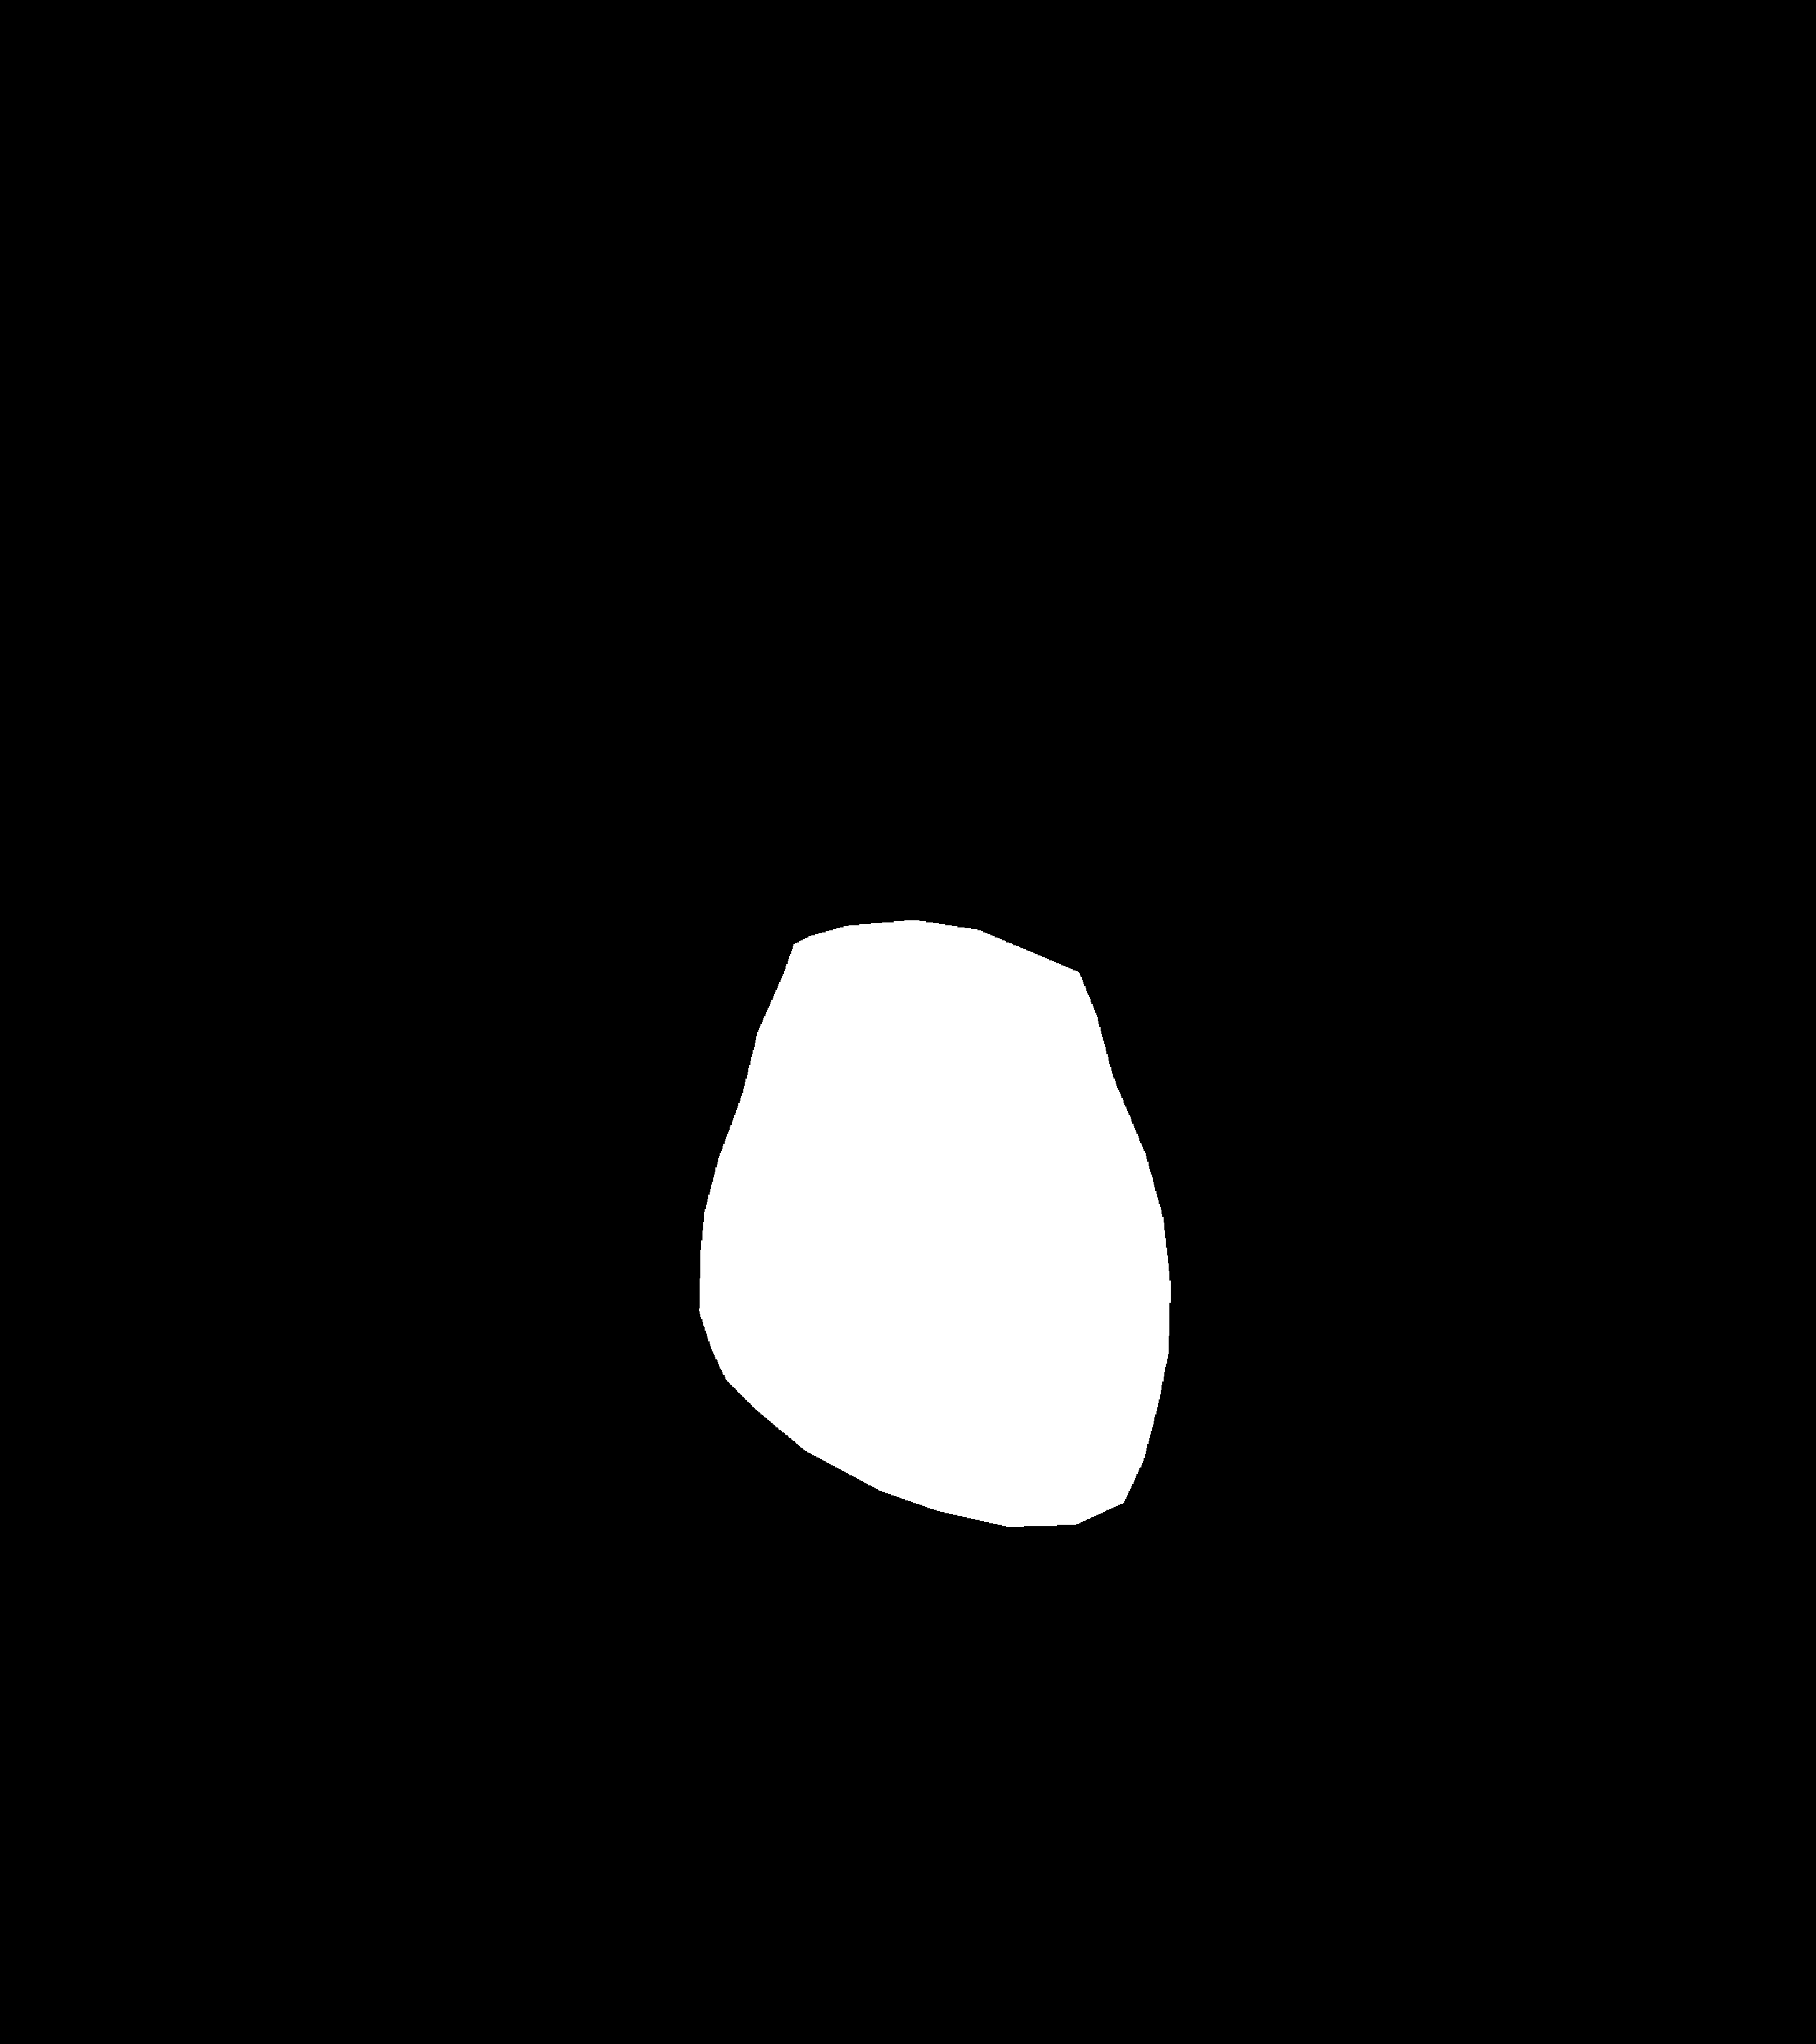heart: (705, 1052, 1171, 1551)
left_lung: (184, 184, 845, 1806)
right_lung: (1024, 196, 1635, 1795)
